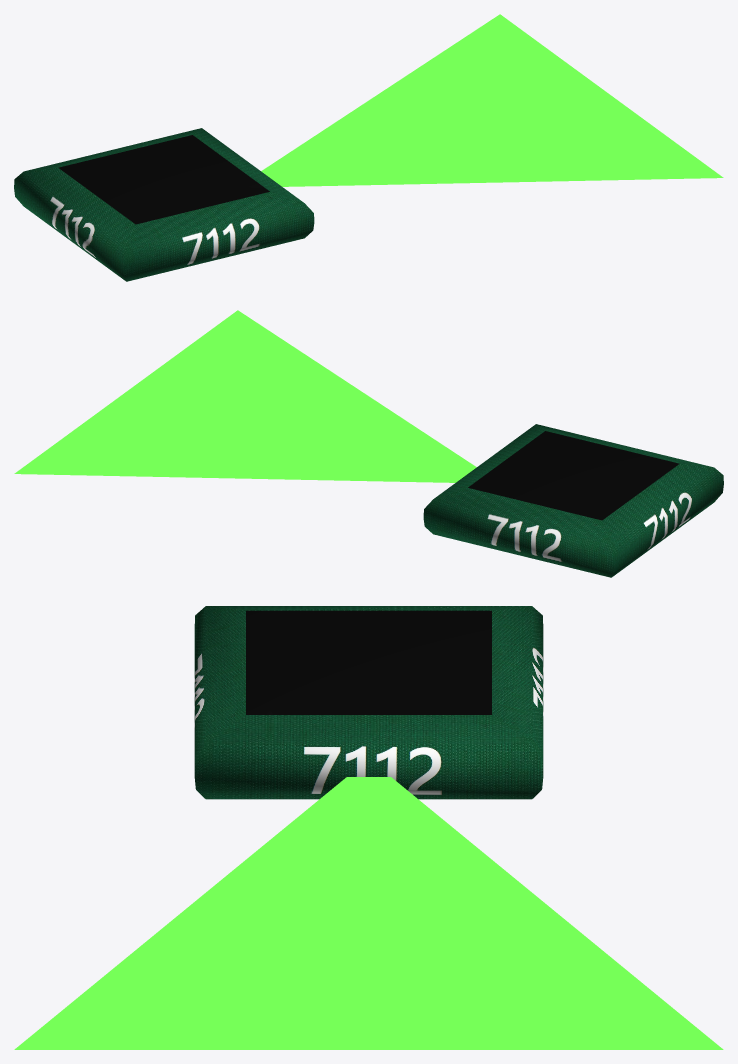
Rendered from chassis green.fbx.
The picture shows the model from 3 angles, top to bottom: view 1: azimuth 30°, elevation 25°; view 2: azimuth 150°, elevation 25°; view 3: azimuth 270°, elevation 25°; orthographic projection. The views are drawn at different scales.
Visible parts, largest first — view 1: Plane, Cube; view 2: Plane, Cube; view 3: Plane, Cube.
Boxes of the visible parts, <box> form: Plane: <box>261,14,723,186</box>; Cube: <box>14,128,314,281</box>; Plane: <box>14,310,476,482</box>; Cube: <box>423,424,723,577</box>; Plane: <box>14,777,723,1049</box>; Cube: <box>194,606,543,799</box>.
Size of the model in its own units: 609 by 49.53 by 435.
